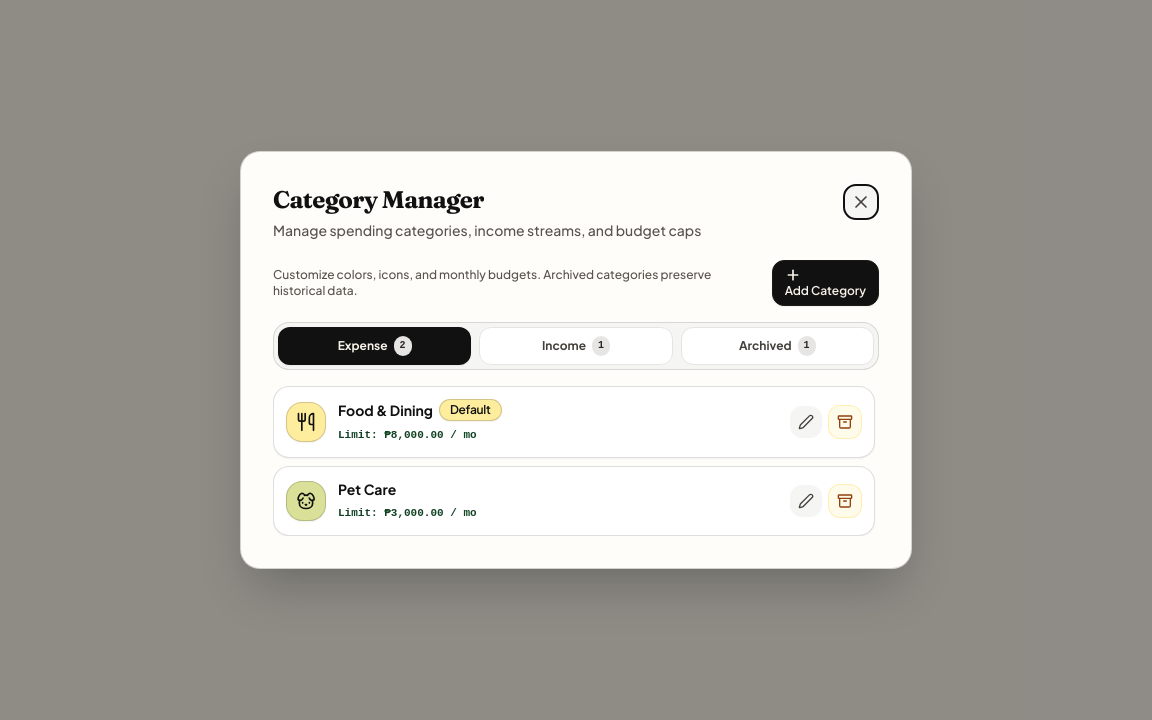
Test: CategoryManagerModal › switches between Expense, Income, and Archived tabs
The image size is (1152, 720).
Switch to Income tab
Click the tab "Income 1".
click(576, 346)  # box [479,327,673,365]
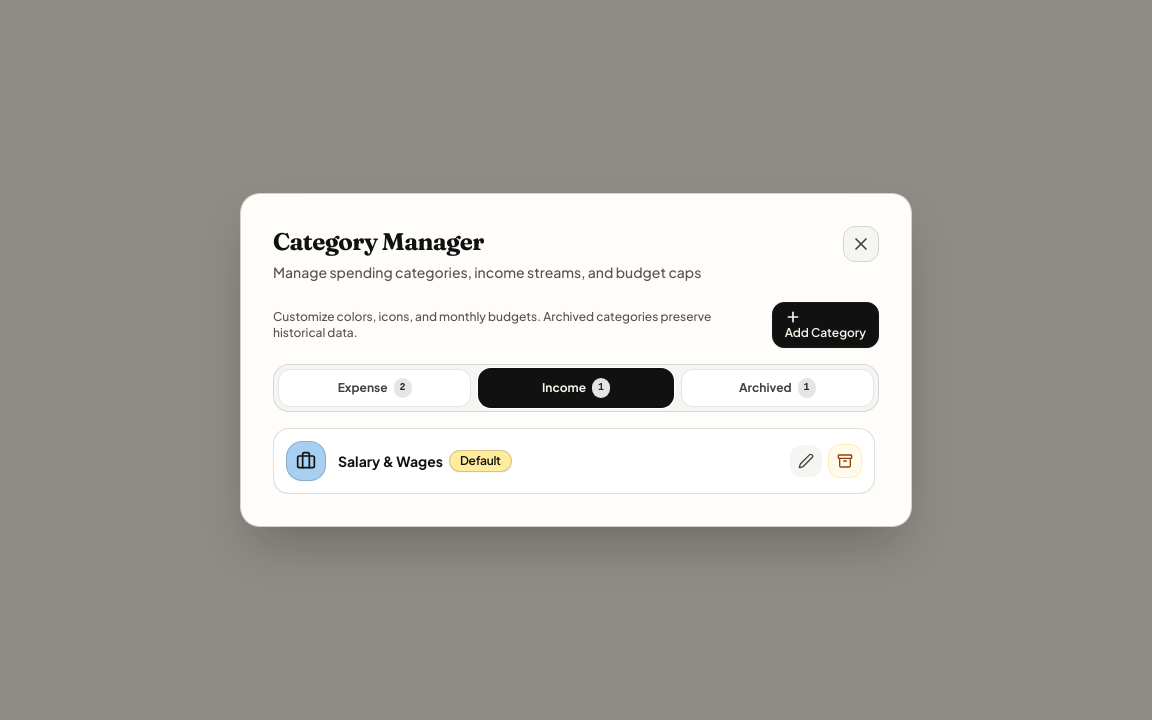
Now the text "Salary & Wages" is shown, box [338,451,443,471]
Now the text "Food & Dining" is gone
Switch to Archived tab
Click the tab "Archived 1".
click(777, 388)  # box [681,369,874,407]
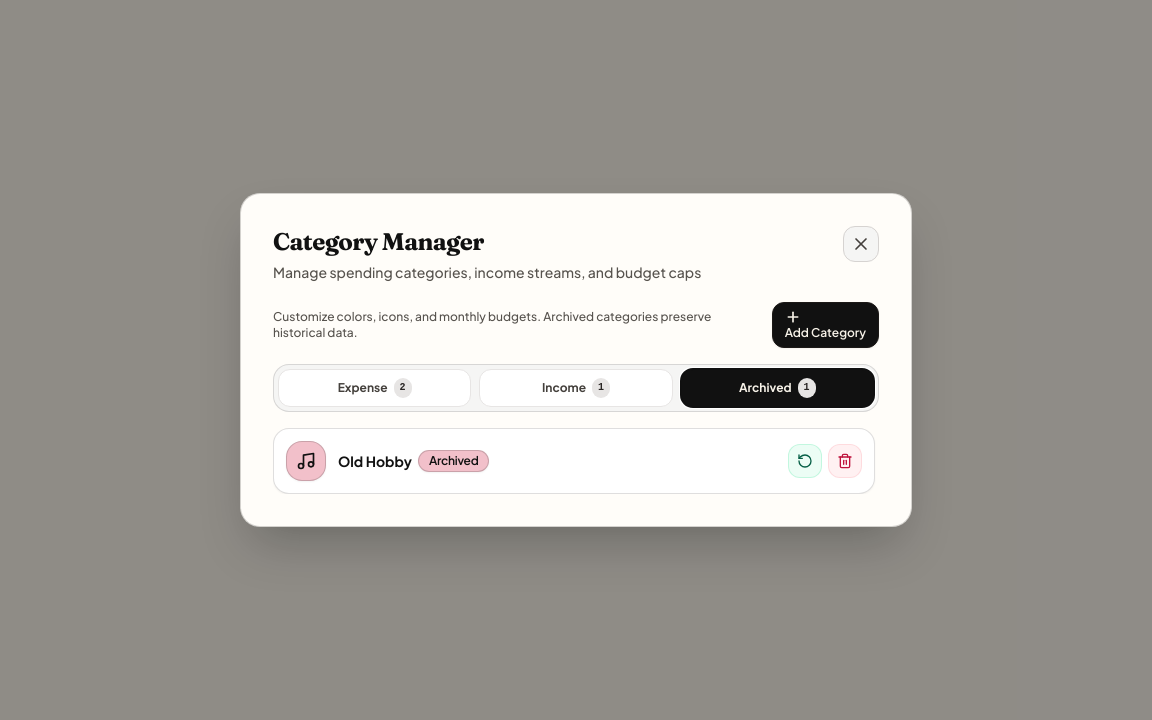
Now the text "Old Hobby" is shown, box [338,451,412,471]
